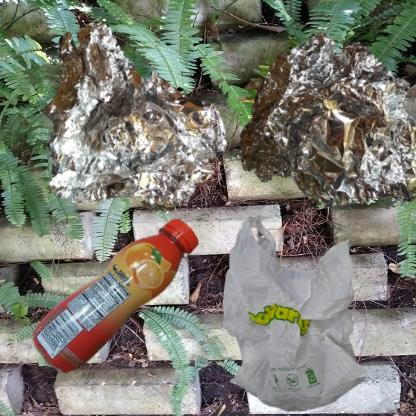aluminio: (10, 10, 265, 257), (213, 10, 416, 248)
bolsa: (213, 213, 384, 416)
botella: (10, 213, 281, 416)
